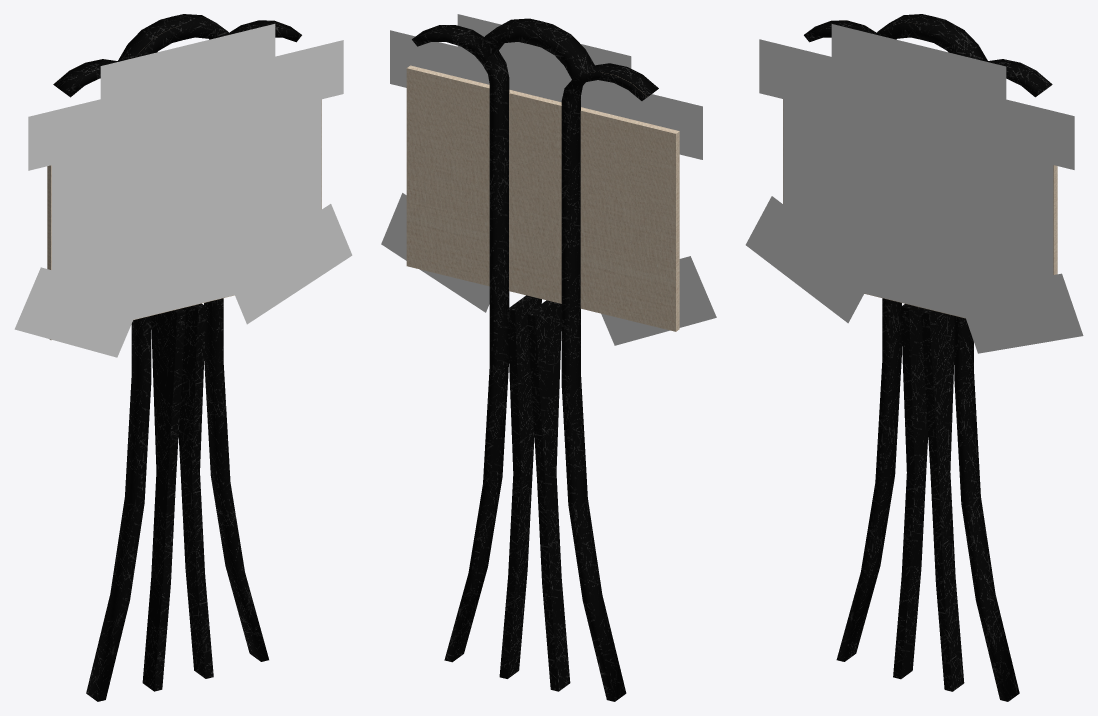
The model's file is WeddingPlaner.fbx.
3 renders of one model, left to right at view 1: azimuth 30°, elevation 25°; view 2: azimuth 150°, elevation 25°; view 3: azimuth 330°, elevation 25°, orthographic.
Visible parts, largest first — view 1: WeddingPlaner; view 2: WeddingPlaner; view 3: WeddingPlaner.
Boxes of the visible parts, box(x1,y1,x2,y2) form: WeddingPlaner: box(14, 14, 352, 701); WeddingPlaner: box(381, 14, 716, 701); WeddingPlaner: box(745, 14, 1083, 701).
Size of the model in its own units: 0.8377 by 1.56 by 0.1179.
